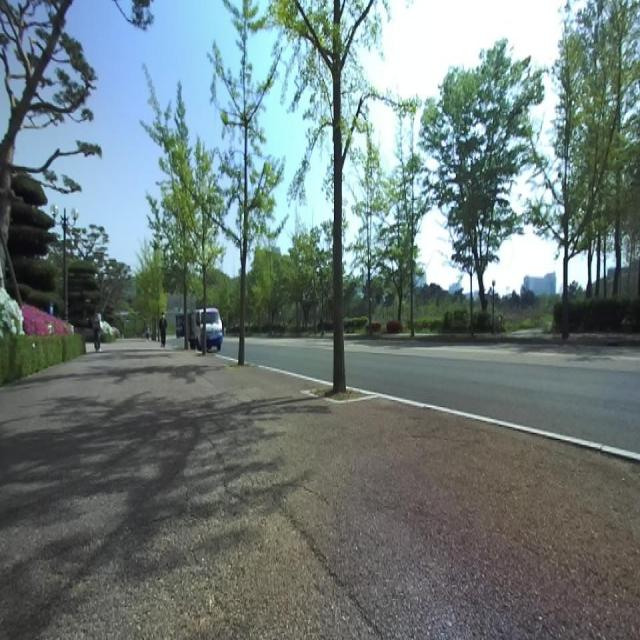sidewalk: (0, 340, 640, 638)
